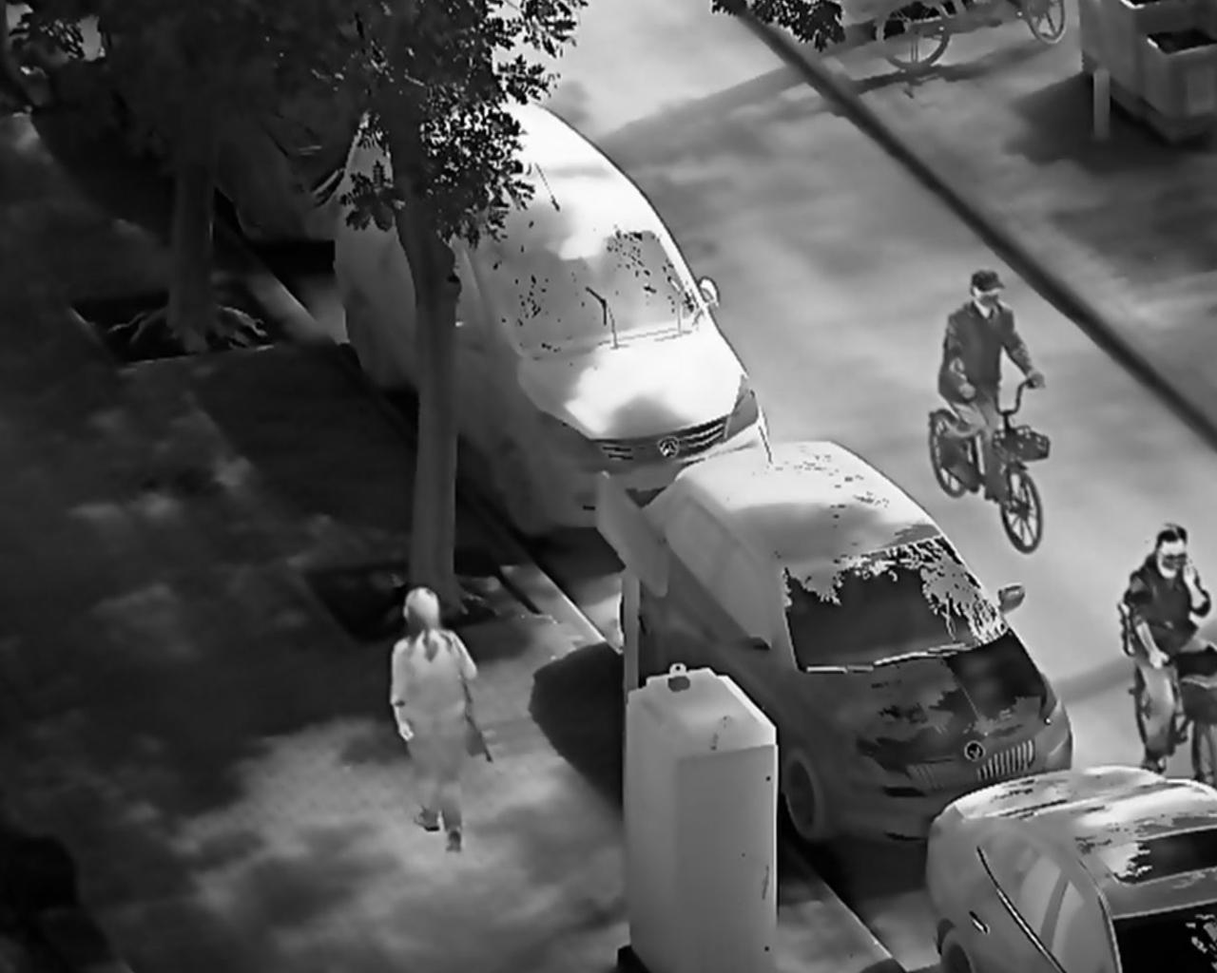person: (387, 582, 494, 860), (937, 267, 1050, 515), (1124, 519, 1217, 778)
